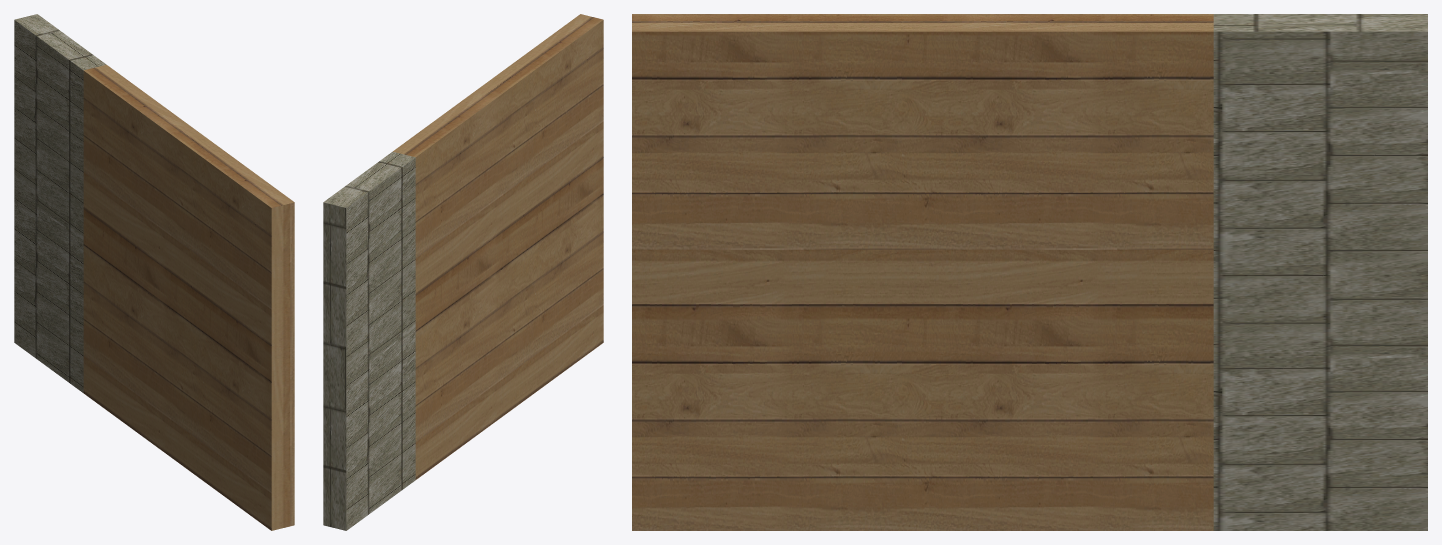
The model's file is nt_concrete_fence_straight_tall_LOD1.obj.
3 renders of one model, left to right at view 1: azimuth 30°, elevation 25°; view 2: azimuth 150°, elevation 25°; view 3: azimuth 270°, elevation 25°, orthographic. The views are drawn at different scales.
Visible parts, largest first — view 1: nt_wood_fence, nt_2020_concrete_pattern_02; view 2: nt_wood_fence, nt_2020_concrete_pattern_02; view 3: nt_wood_fence, nt_2020_concrete_pattern_02.
Part boxes in pixels (bbox=[...]): nt_wood_fence: bbox=[83, 64, 294, 530]; nt_2020_concrete_pattern_02: bbox=[14, 14, 106, 392]; nt_wood_fence: bbox=[393, 14, 603, 479]; nt_2020_concrete_pattern_02: bbox=[323, 151, 415, 530]; nt_wood_fence: bbox=[632, 14, 1213, 530]; nt_2020_concrete_pattern_02: bbox=[1213, 14, 1427, 530].
Size of the model in its own units: 10.34 by 137 by 198.
